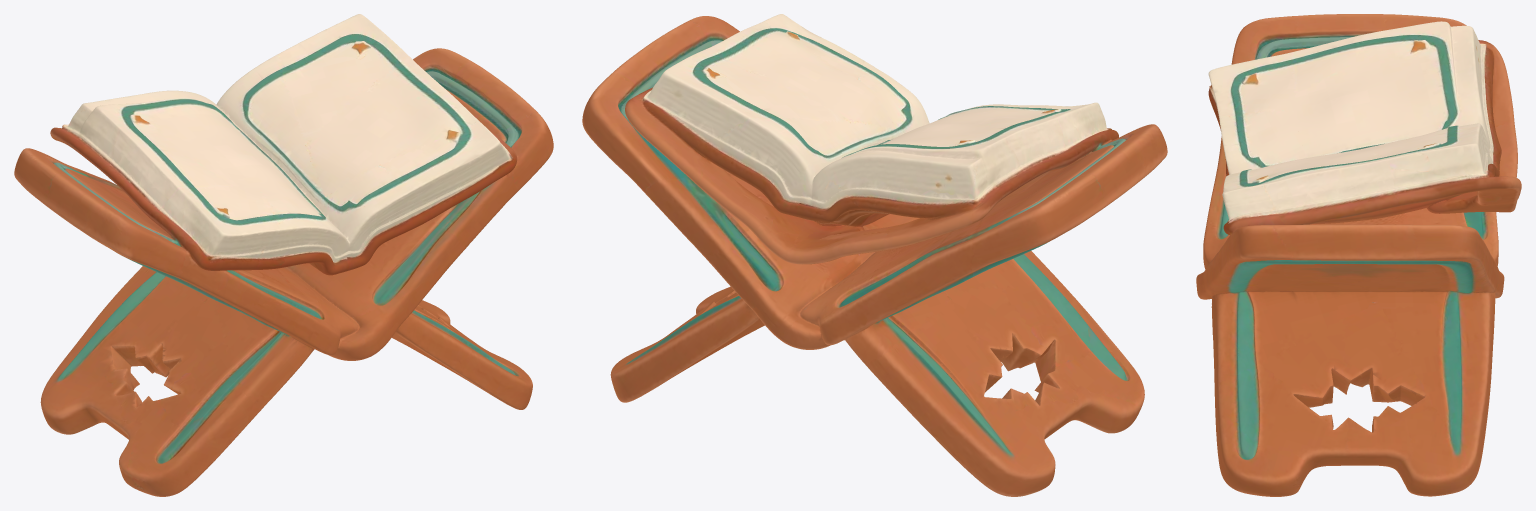
File: rehal-quran-variant-02-open-terracotta-inlay.glb
The picture shows the model from 3 angles, left to right: view 1: azimuth 30°, elevation 25°; view 2: azimuth 150°, elevation 25°; view 3: azimuth 270°, elevation 25°; orthographic projection. The views are drawn at different scales.
Visible parts, largest first — view 1: mesh_node; view 2: mesh_node; view 3: mesh_node.
Boxes of the visible parts, left/top/right/bottom form: mesh_node: left=14, top=14, right=553, bottom=496; mesh_node: left=582, top=14, right=1167, bottom=496; mesh_node: left=1196, top=14, right=1521, bottom=496.
Bounding box in the file's own units: 1.9 × 1.29 × 1.17.
Materials: 1 (1 with a texture image).
